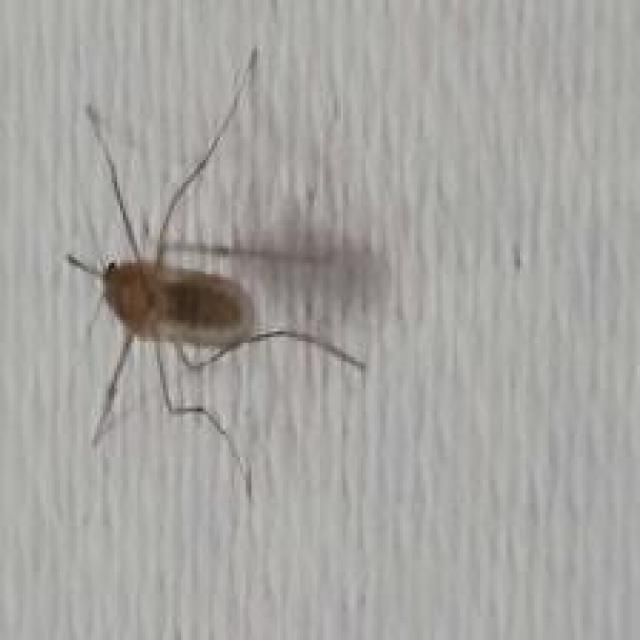Culex: (64, 44, 370, 502)
